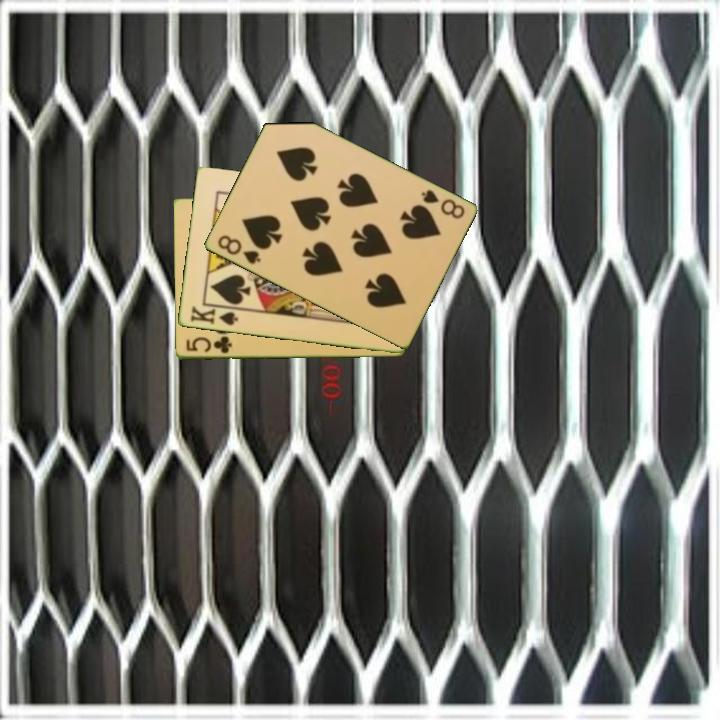5c: (182, 333, 234, 356)
8s: (417, 186, 467, 222), (214, 231, 263, 267)
Ks: (187, 303, 240, 329)
